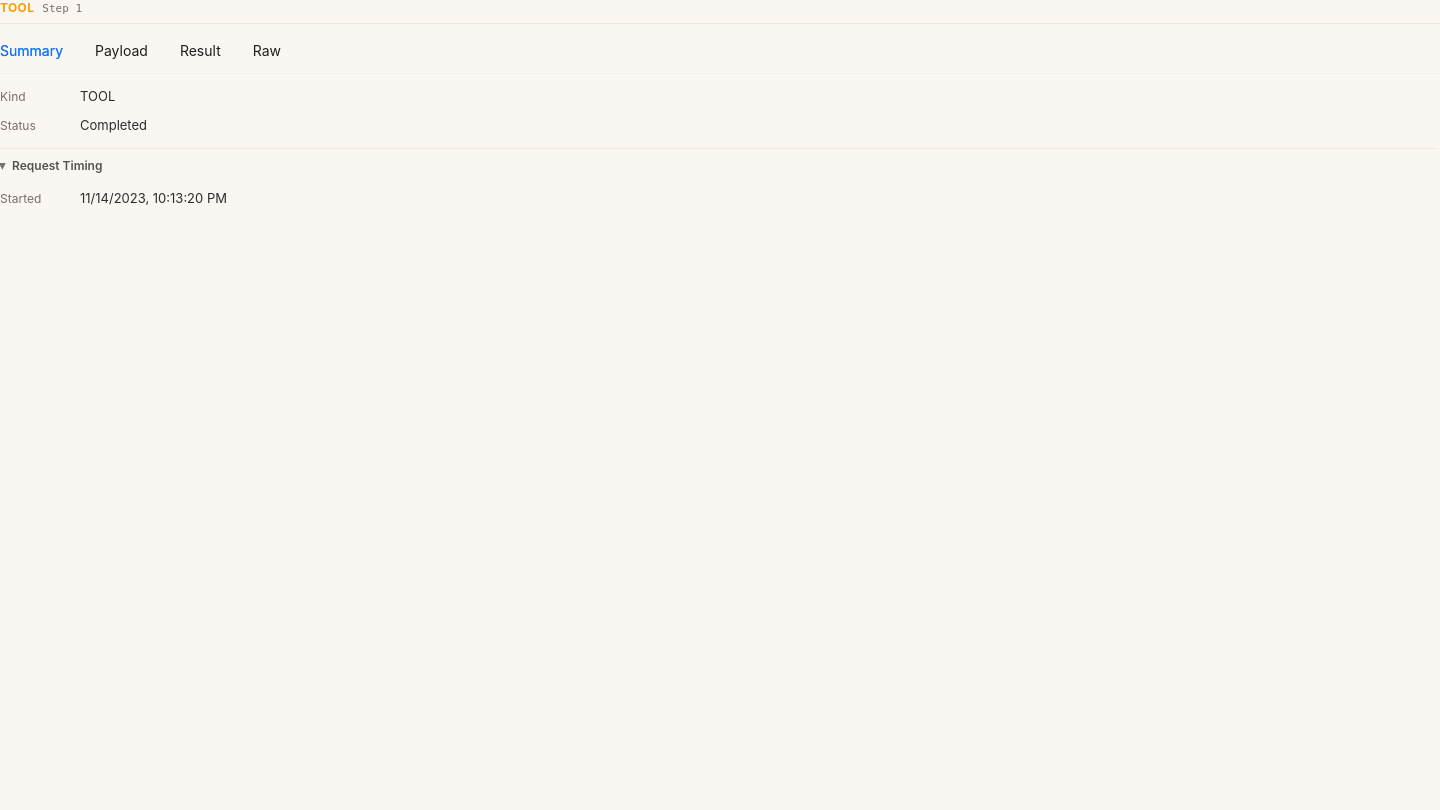
Scenario: TrajectoryInspector › renders tool Result as plain text, not markdown
Step 1. Click the tab "Result" → (200, 51), box [180,40,221,62]
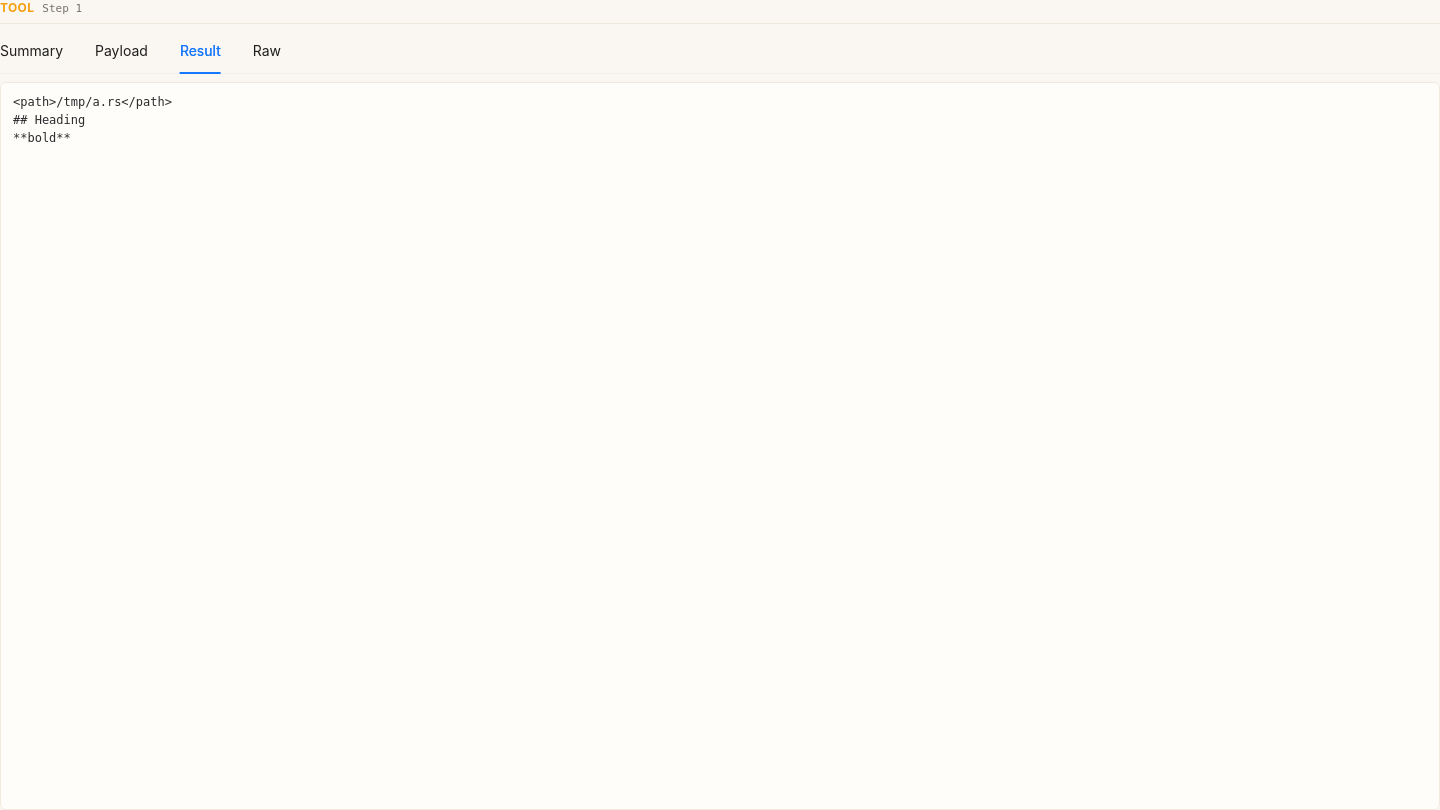
Expected: the text with test id "trajectory-preview" shows "<path>/tmp/a.rs</path>", [13,95,172,145]
Expected: the text with test id "trajectory-preview" shows "## Heading", [13,95,172,145]
Expected: the text with test id "trajectory-preview" shows "**bold**", [13,95,172,145]
